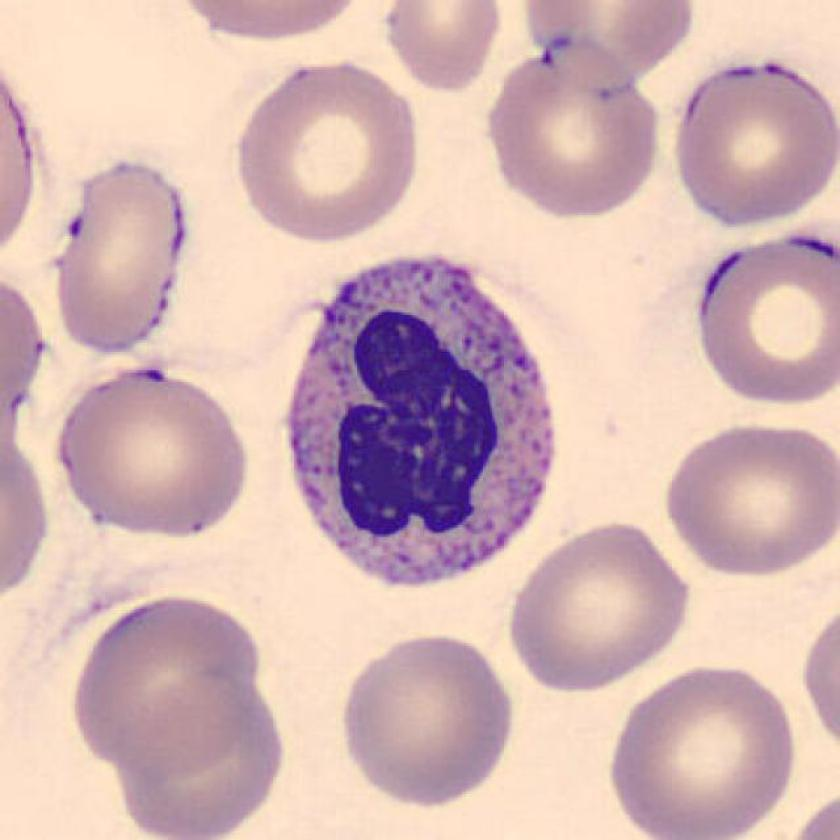neutrophil: (290, 253, 555, 586)
